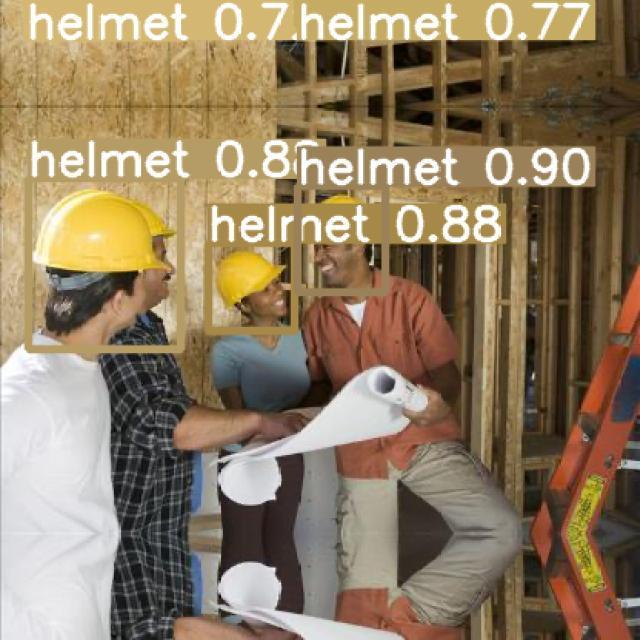yellow helmet: (29, 189, 174, 281), (213, 246, 291, 308)
